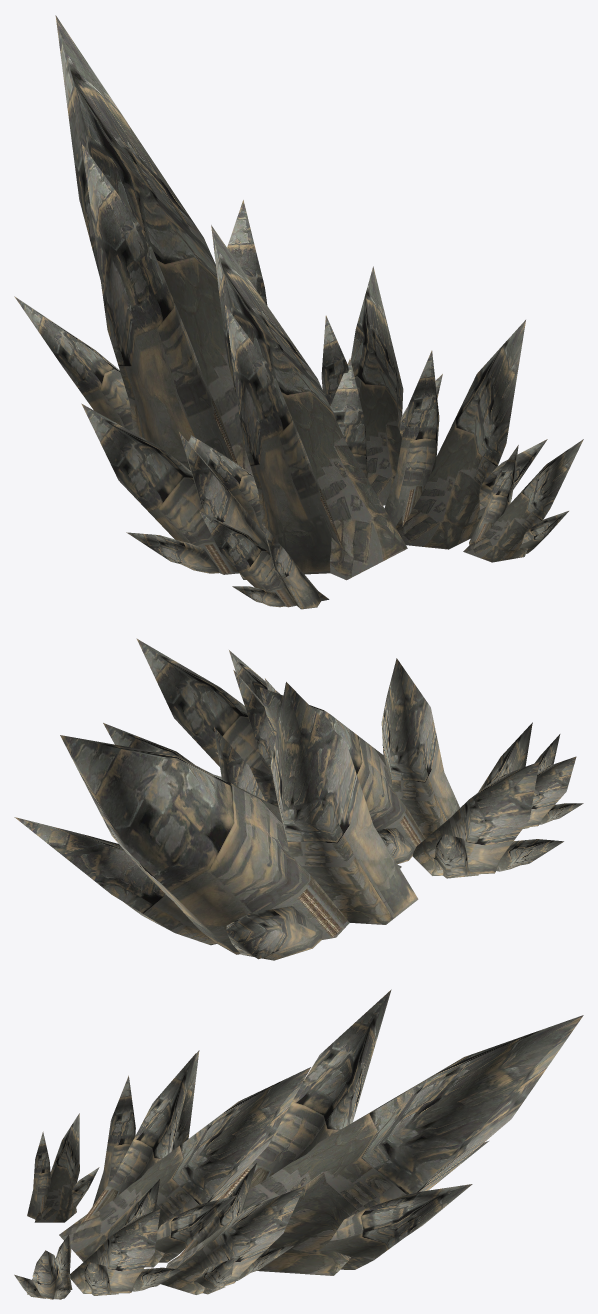
File: Effect_1171skill.fbx
3 renders of one model, top to bottom at view 1: azimuth 30°, elevation 25°; view 2: azimuth 150°, elevation 25°; view 3: azimuth 270°, elevation 25°, orthographic. The views are drawn at different scales.
Visible parts, largest first — view 1: ice_07, ice_01, ice_03, ice_02, ice_04, ice_05, ice_06; view 2: ice_07, ice_01, ice_02, ice_03, ice_06, ice_04, ice_05; view 3: ice_07, ice_01, ice_04, ice_03, ice_06, ice_02, ice_05.
Part boxes in pixels (x1,y1,x2,y2): ice_07: (14, 15, 267, 475); ice_01: (188, 225, 407, 580); ice_03: (384, 320, 547, 549); ice_02: (81, 403, 269, 579); ice_04: (321, 266, 442, 505); ice_05: (463, 439, 583, 562); ice_06: (199, 511, 329, 609); ice_07: (14, 682, 418, 960); ice_01: (215, 658, 459, 864); ice_02: (412, 722, 563, 878); ice_03: (136, 638, 273, 778); ice_06: (523, 734, 583, 828); ice_04: (103, 723, 265, 800); ice_05: (229, 650, 280, 703); ice_07: (219, 989, 583, 1275); ice_01: (59, 1053, 310, 1267); ice_04: (161, 1163, 304, 1294); ice_03: (70, 1179, 181, 1295); ice_06: (27, 1113, 99, 1222); ice_02: (93, 1050, 199, 1205); ice_05: (14, 1235, 72, 1299).
Size of the model in its own units: 3.54 by 2.47 by 5.36.
1 material, 1 textured.
